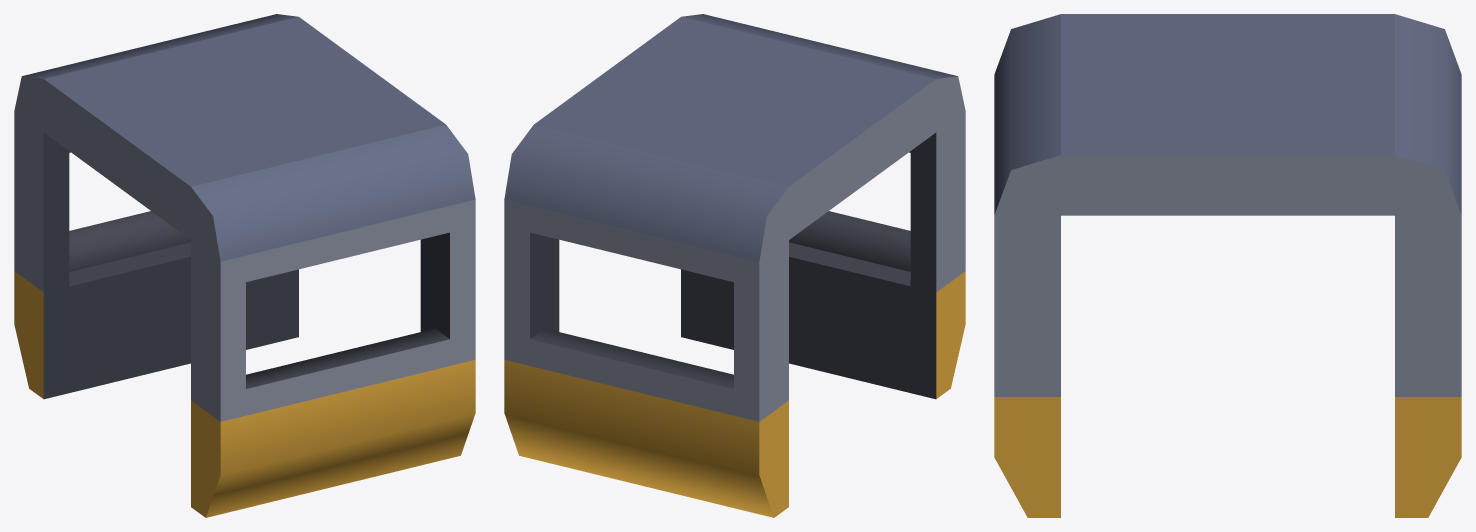
File: CoverStripeWindow-transformed.glb
3 views of the same model, side by side, from view 1: azimuth 30°, elevation 25°; view 2: azimuth 150°, elevation 25°; view 3: azimuth 270°, elevation 25° (orthographic). The views are drawn at different scales.
Parts seen in each view (by area): view 1: cover-stripe-window; view 2: cover-stripe-window; view 3: cover-stripe-window.
Part boxes in pixels (x1=…): cover-stripe-window: x1=14, y1=14, x2=475, y2=517; cover-stripe-window: x1=504, y1=14, x2=965, y2=517; cover-stripe-window: x1=994, y1=14, x2=1461, y2=517.
Bounding box in the file's own units: 1 × 1.2 × 1.4.
